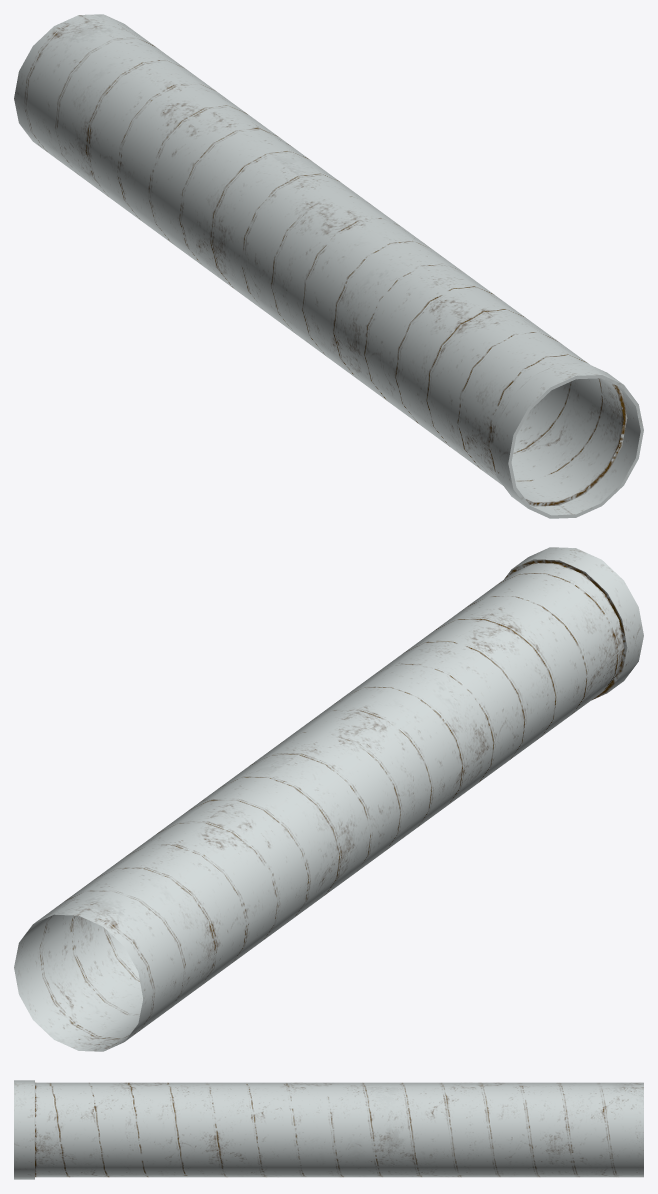
Rendered from straight_duct.glb.
3 views of the same model, one above another, from view 1: azimuth 30°, elevation 25°; view 2: azimuth 150°, elevation 25°; view 3: azimuth 270°, elevation 25° (orthographic). The views are drawn at different scales.
Visible parts, largest first — view 1: duct_base_low_0; view 2: duct_base_low_0; view 3: duct_base_low_0.
Boxes of the visible parts, x1,y1,x2,y2 form: duct_base_low_0: (14,14,643,518); duct_base_low_0: (14,547,643,1051); duct_base_low_0: (14,1080,643,1179).
Size of the model in its own units: 0.315 by 0.315 by 2.
1 material, 1 textured.
